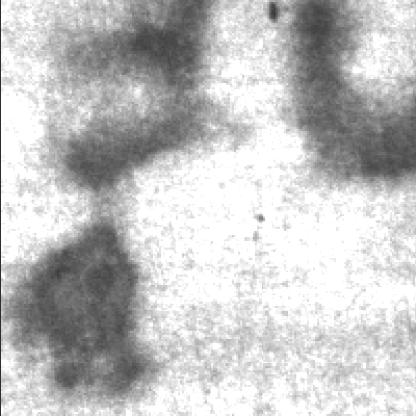patches: (13, 225, 138, 399), (287, 6, 412, 180), (52, 98, 210, 198), (54, 2, 212, 94)
